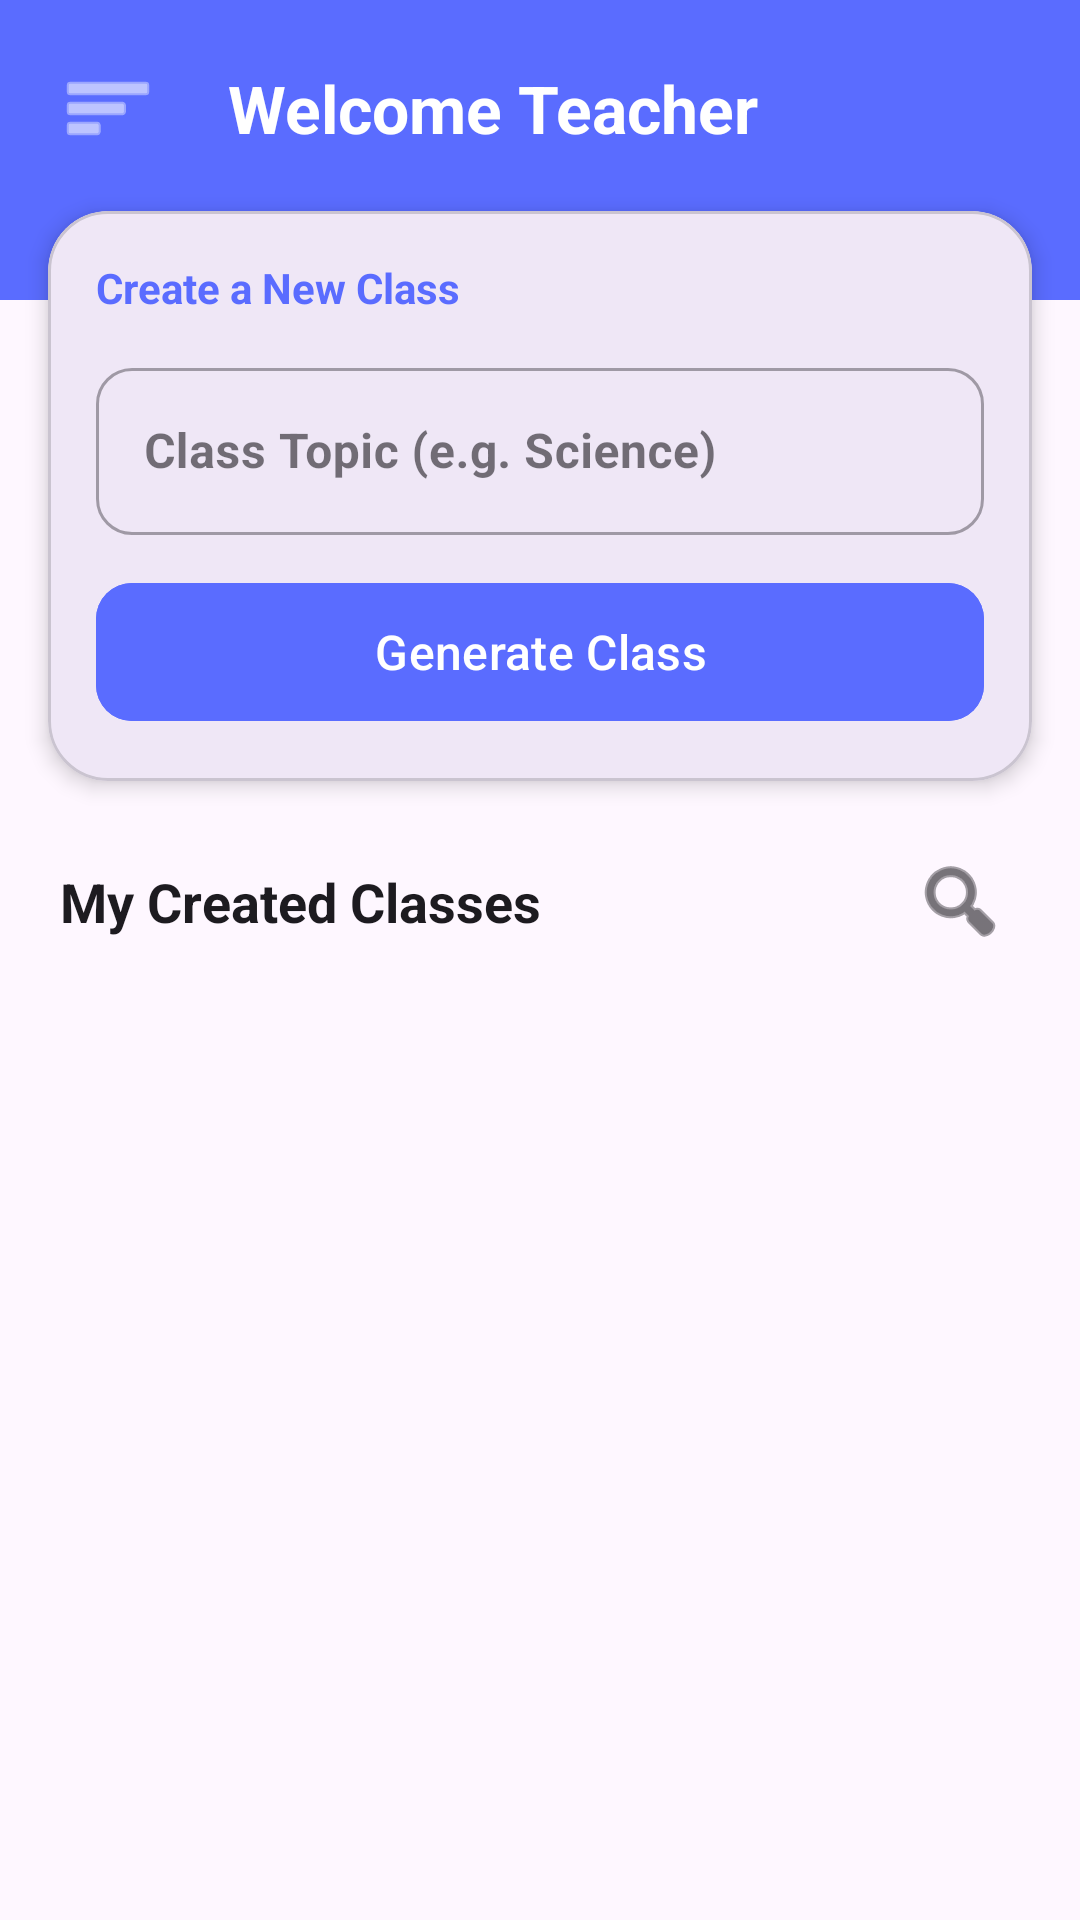

Screen size 1080x1920. Icon name, then its box in pixels as [x1=x1, y1=y1, x2=x2, y2=y2]:
Menu: [x1=67, y1=82, x2=149, y2=135]
Search: [x1=924, y1=866, x2=996, y2=937]
